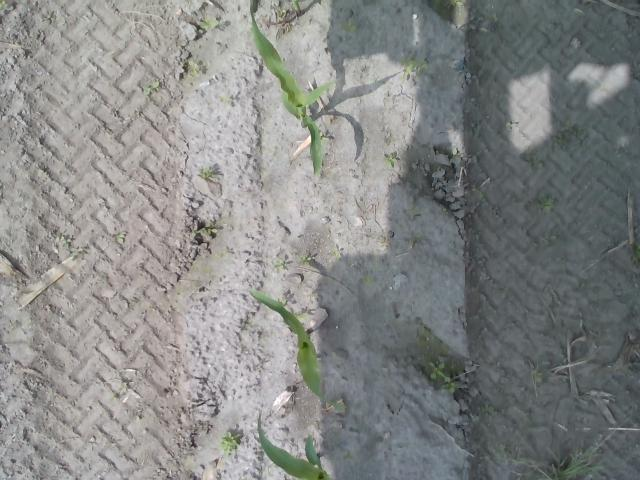Maize: (249, 9, 335, 180), (250, 288, 338, 404), (254, 408, 330, 480)
Weeds: (425, 360, 456, 394), (554, 120, 584, 146), (54, 234, 84, 257), (219, 432, 239, 452), (323, 399, 348, 415), (403, 56, 427, 72), (188, 226, 218, 238), (536, 232, 560, 246), (537, 196, 556, 212), (526, 152, 544, 168), (188, 59, 201, 80), (144, 80, 160, 96), (341, 18, 356, 34), (532, 369, 546, 386), (479, 403, 495, 417), (384, 156, 398, 170), (362, 274, 377, 286), (272, 258, 284, 272), (200, 167, 216, 177), (114, 232, 127, 243), (204, 19, 218, 29), (330, 249, 342, 259), (438, 207, 449, 216), (450, 0, 464, 7), (302, 256, 312, 265)
